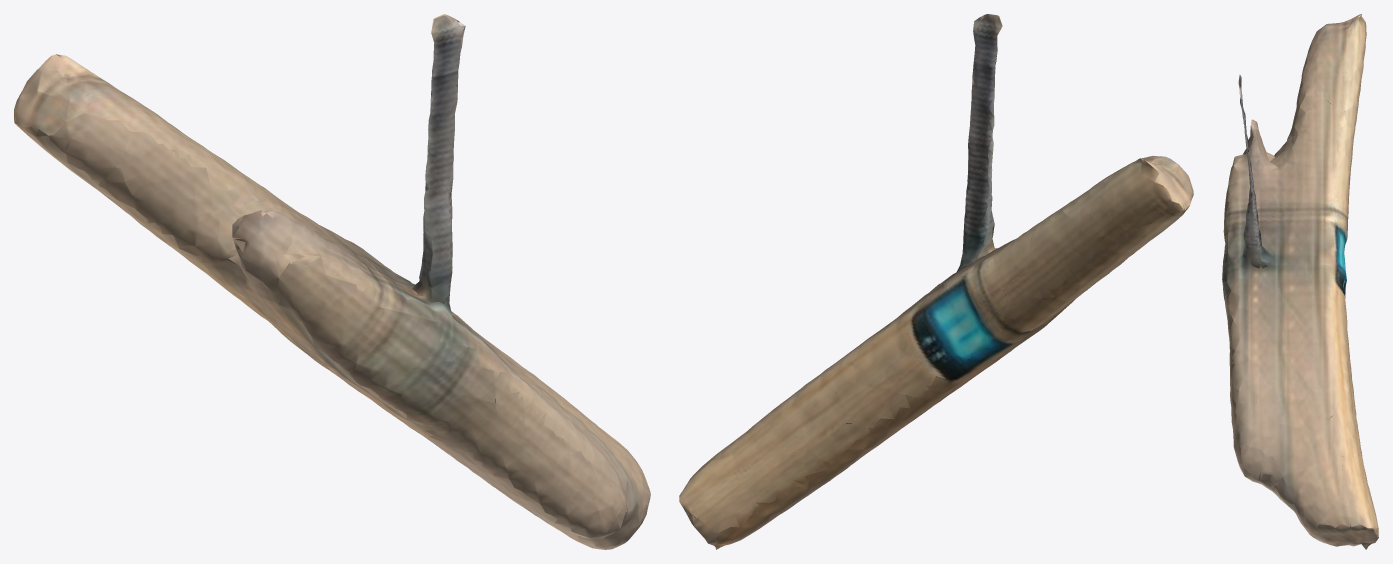
The picture shows the model from 3 angles, left to right: view 1: azimuth 30°, elevation 25°; view 2: azimuth 150°, elevation 25°; view 3: azimuth 270°, elevation 25°; orthographic projection. The views are drawn at different scales.
Parts seen in each view (by area): view 1: world; view 2: world; view 3: world.
Part boxes in pixels (x1=…): world: x1=14, y1=14, x2=650, y2=549; world: x1=679, y1=14, x2=1193, y2=549; world: x1=1222, y1=14, x2=1378, y2=549.
Size of the model in its own units: 0.8755 by 0.8788 by 0.3113.
1 material, 1 textured.
